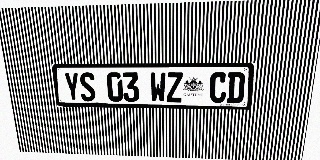0: (106, 72, 123, 102)
3: (122, 72, 139, 102)
C: (209, 72, 227, 103)
D: (226, 72, 245, 103)
S: (79, 72, 96, 101)
W: (150, 72, 166, 102)
Y: (63, 72, 81, 101)
Z: (166, 72, 183, 103)
